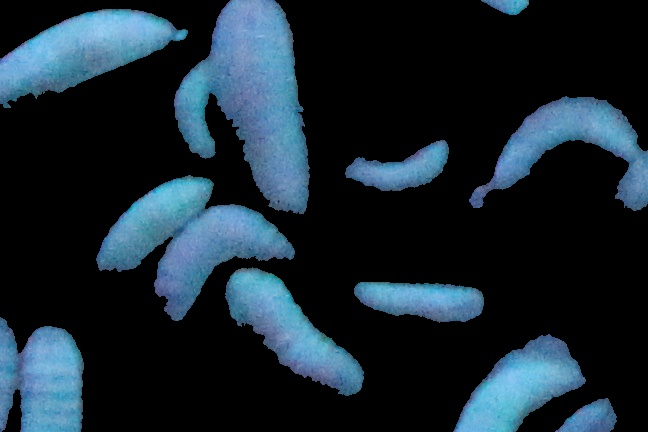larvae: (217, 1, 311, 213), (221, 273, 360, 406), (1, 7, 186, 104), (158, 207, 299, 318), (89, 175, 209, 287), (454, 336, 585, 432), (499, 93, 629, 189), (17, 322, 87, 432), (340, 141, 450, 197), (353, 281, 486, 327), (165, 59, 214, 164)
